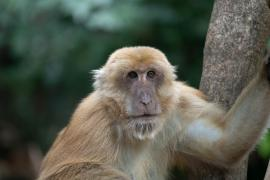monkey: (23, 44, 270, 179)
